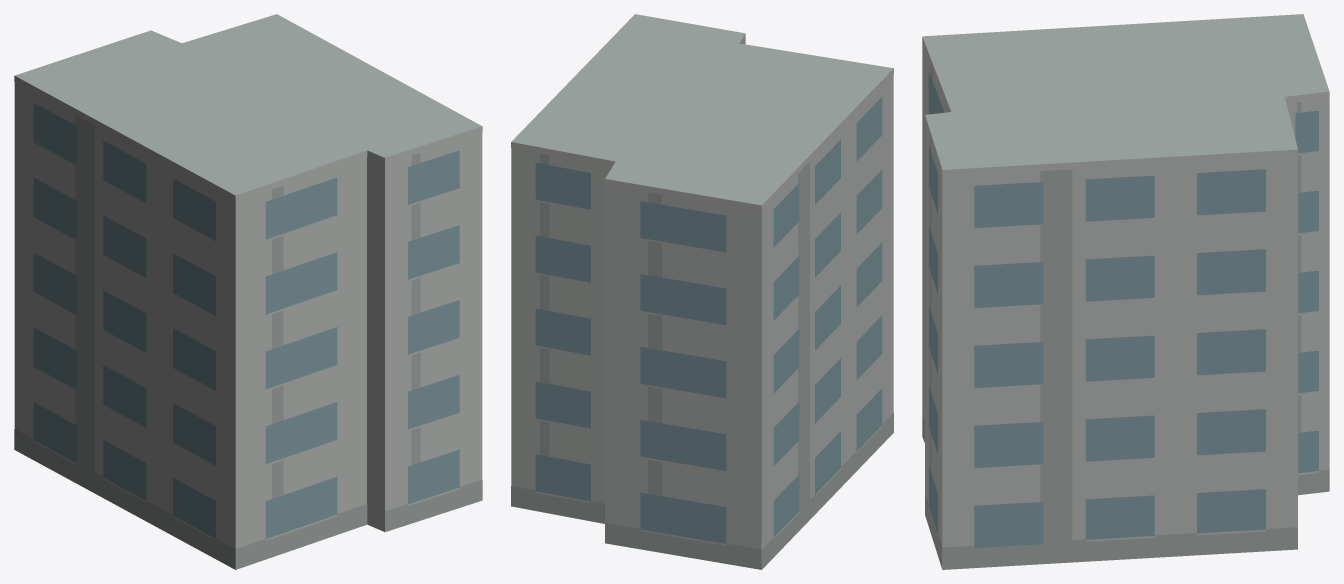
The model's file is survey-upis-32721254.glb.
3 views of the same model, side by side, from view 1: azimuth 30°, elevation 25°; view 2: azimuth 150°, elevation 25°; view 3: azimuth 270°, elevation 25° (orthographic). The views are drawn at different scales.
Visible parts, largest first — view 1: survey-upis-32721254.tmp; view 2: survey-upis-32721254.tmp; view 3: survey-upis-32721254.tmp.
Part boxes in pixels (<box>): survey-upis-32721254.tmp: <box>14,14,482,569</box>; survey-upis-32721254.tmp: <box>511,14,893,569</box>; survey-upis-32721254.tmp: <box>922,14,1329,569</box>.
Bounding box in the file's own units: 11.88 × 14.2 × 13.12.
